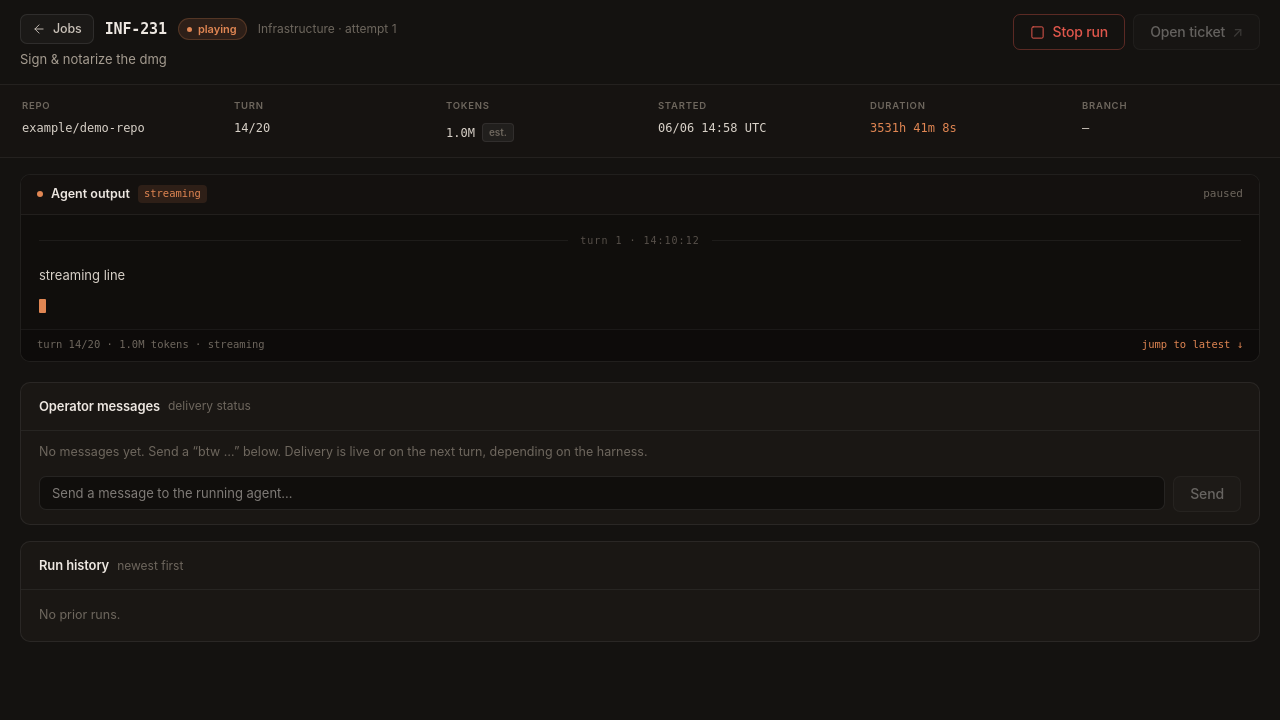
it: RunDetail follow mode › pauses following on an upward scroll and resumes via jump-to-latest
Check: the text "streaming line" is shown, box [39,267,125,283]
Check: the text "paused" is shown, box [1203,186,1243,202]
Click the button "jump to latest ↓".
click(1192, 345)  # box [1142,337,1243,353]
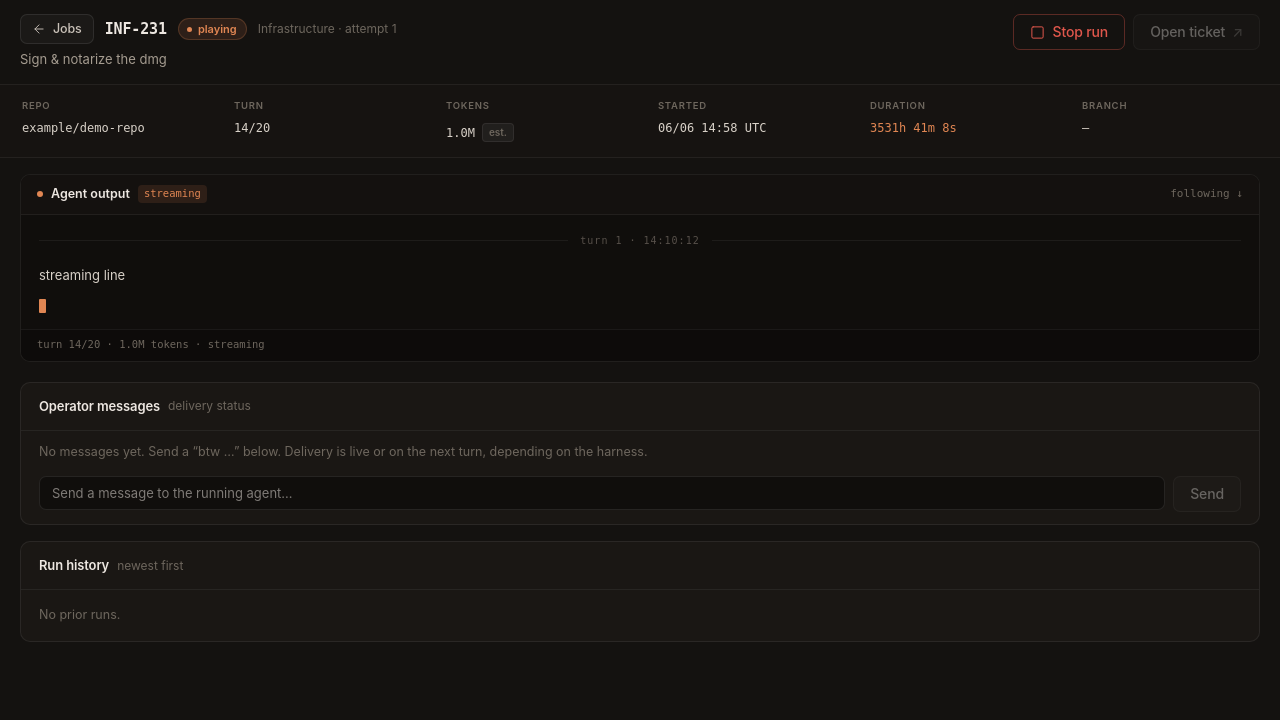
Check: the text "following ↓" is shown, box [1170,186,1243,202]
Check: the button "jump to latest" is gone
